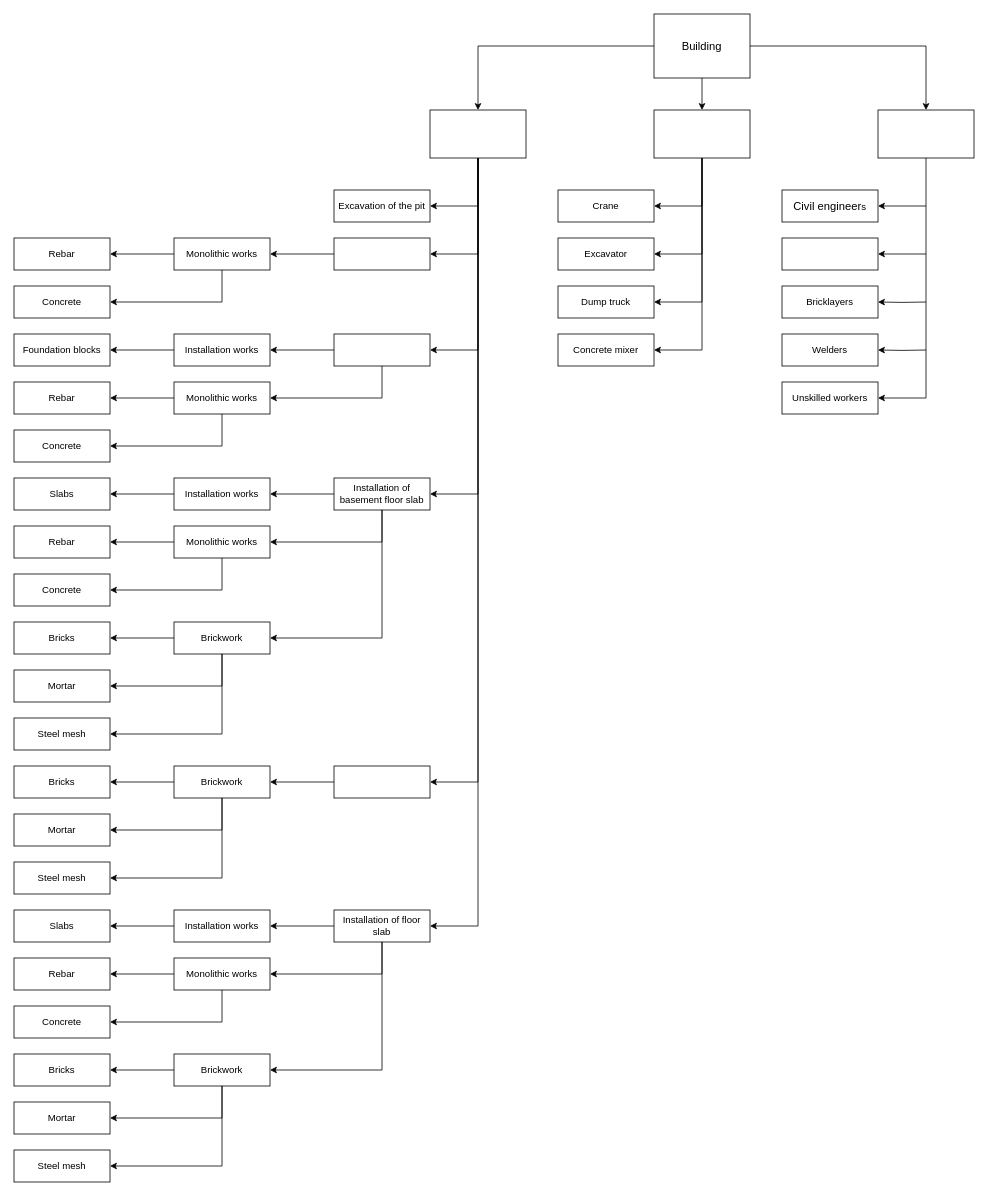
Image size: 988x1196. Some labels were removed from this diagram. Here are the shapes that lost their labels. From the top down, the box of each, then its label:
(429, 109, 526, 158): Consruction works
(653, 109, 750, 158): Construction machinery
(877, 109, 974, 158): Workers
(333, 237, 430, 270): Pouring a foundation plate
(781, 237, 878, 270): Concrete workers
(333, 333, 430, 366): Installation of basement walls
(333, 765, 430, 798): Installation of floor wall
